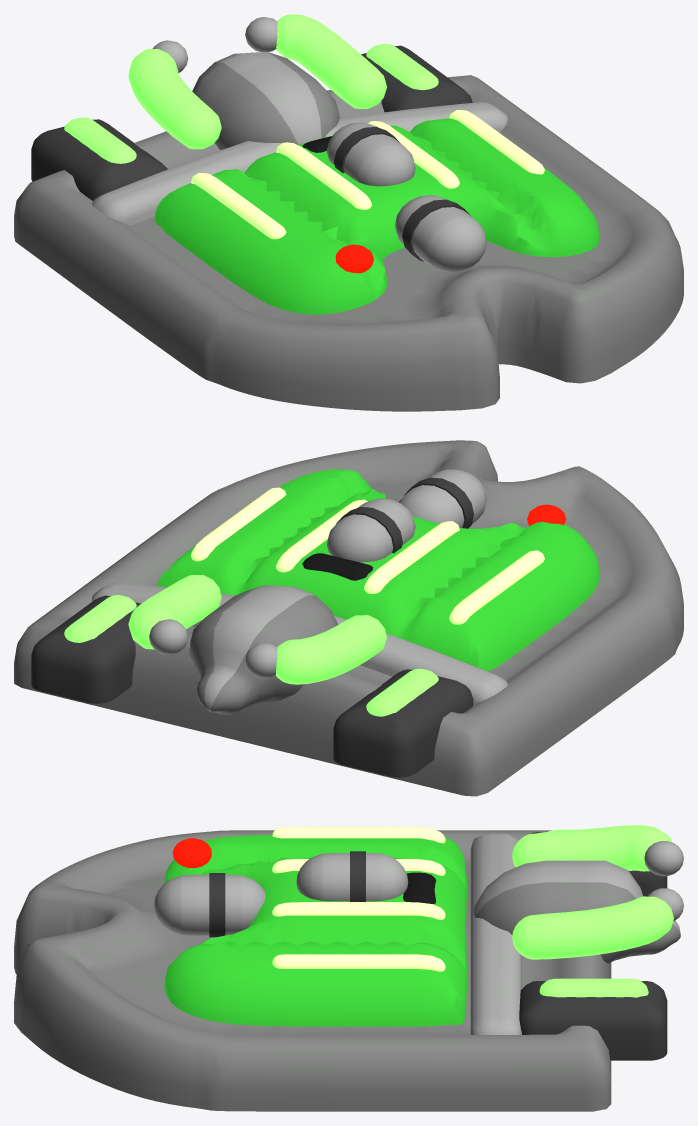
The model's file is store_shield_165.glb.
The picture shows the model from 3 angles, top to bottom: view 1: azimuth 30°, elevation 25°; view 2: azimuth 150°, elevation 25°; view 3: azimuth 270°, elevation 25°; orthographic projection.
Visible parts, largest first — view 1: shield_steel, shield_green_core, shield_steel_light, shield_green_cell, spine, shield_steel_dark, shield_green_rib, shield_red_dot; view 2: shield_steel, shield_green_core, shield_steel_dark, shield_steel_light, shield_green_cell, spine, shield_green_rib, shield_black, shield_red_dot; view 3: shield_steel, shield_green_core, shield_steel_light, shield_green_cell, shield_steel_dark, spine, shield_green_rib, shield_red_dot, shield_black.
Boxes of the visible parts, <box> form: shield_steel: <box>14,75,683,411</box>; shield_green_core: <box>154,118,599,314</box>; shield_steel_light: <box>92,17,507,272</box>; shield_green_cell: <box>64,14,438,163</box>; spine: <box>192,52,339,150</box>; shield_steel_dark: <box>31,45,472,261</box>; shield_green_rib: <box>191,110,544,239</box>; shield_red_dot: <box>335,244,373,273</box>; shield_steel: <box>14,440,683,796</box>; shield_green_core: <box>156,469,599,671</box>; shield_steel_dark: <box>31,477,473,777</box>; shield_steel_light: <box>92,469,507,704</box>; shield_green_cell: <box>64,575,438,716</box>; spine: <box>189,585,338,714</box>; shield_green_rib: <box>191,487,544,624</box>; shield_black: <box>302,553,373,580</box>; shield_red_dot: <box>527,504,566,525</box>; shield_steel: <box>14,830,611,1111</box>; shield_green_core: <box>164,835,467,1026</box>; shield_steel_light: <box>154,833,683,1034</box>; shield_green_cell: <box>512,825,673,997</box>; shield_steel_dark: <box>209,832,667,1060</box>; spine: <box>473,860,680,963</box>; shield_green_rib: <box>272,827,445,971</box>; shield_red_dot: <box>172,838,211,867</box>; shield_black: <box>403,872,436,903</box>.
Bounding box in the file's own units: 17.23 × 4.85 × 20.95.
